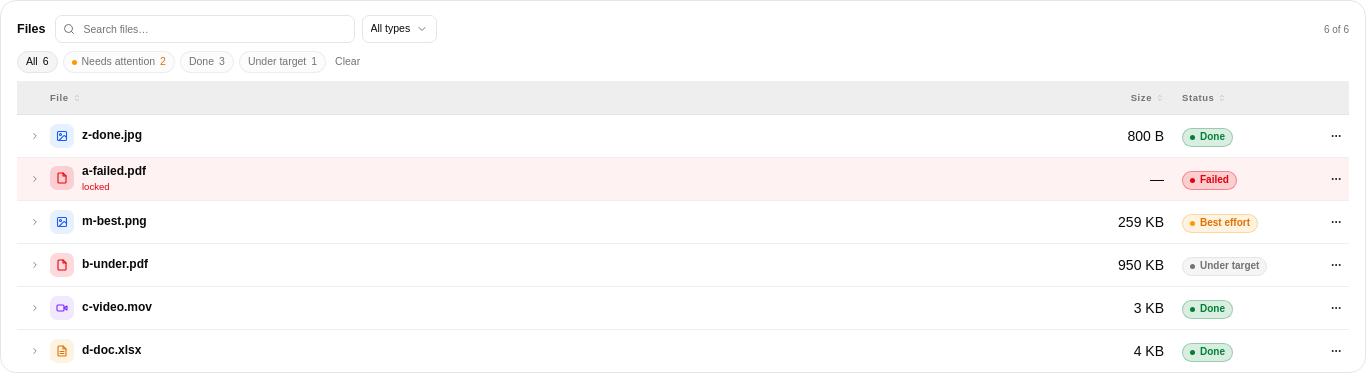
Test: HistoryFilesTable › shows the empty filtered row with a clear action
The width and height of the screenshot is (1366, 390).
Type "zzz" into the search field labelled "Search files" at (204, 29), box [54, 15, 354, 43]
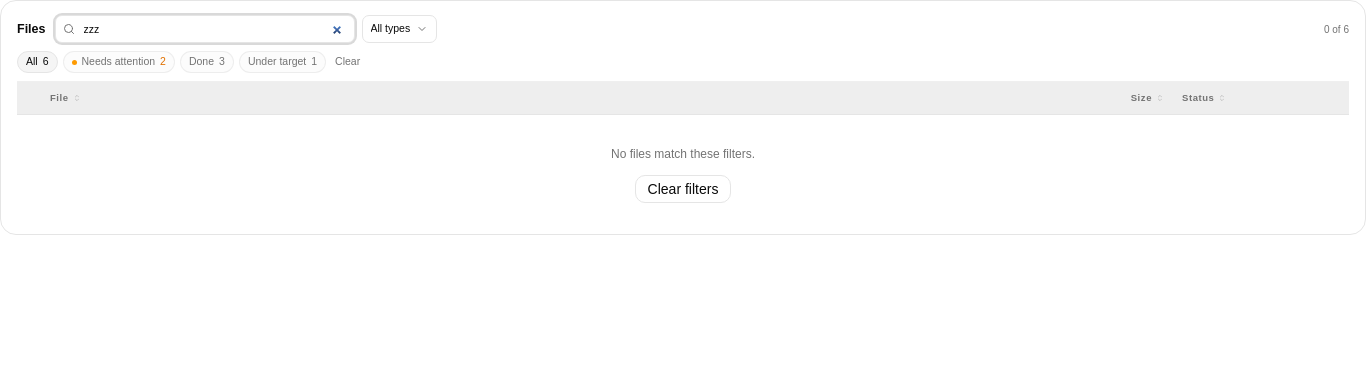
Result: the text "No files match these filters." is shown at [611, 146, 755, 163]
Result: the button "Clear filters" is shown at [635, 175, 731, 203]
